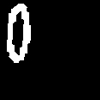chain: (7, 4, 30, 62)
